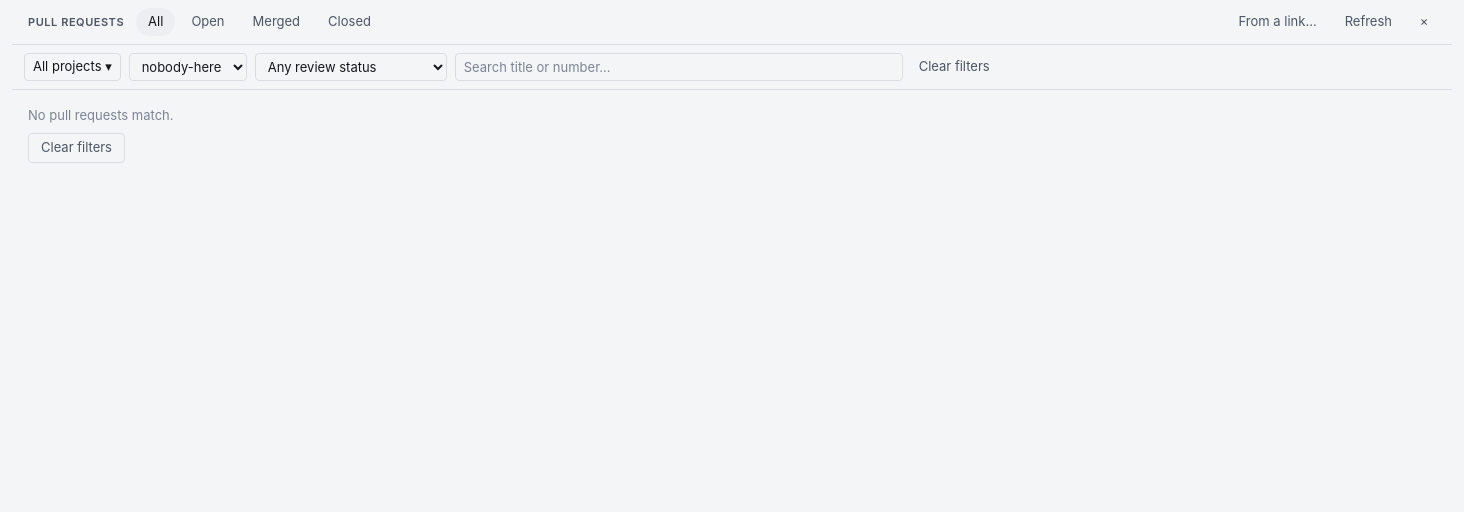
filters › clears what narrows the list and keeps the tab
This screenshot has width=1464, height=512.
Expected: the dropdown named "Author" shows "nobody-here", x1=129 y1=52 x2=247 y2=80
Expected: the message shows "No pull requests match.", x1=28 y1=106 x2=174 y2=122
Click the button "Clear filters" below "No pull requests match." at (76,148), box x1=28 y1=133 x2=125 y2=162
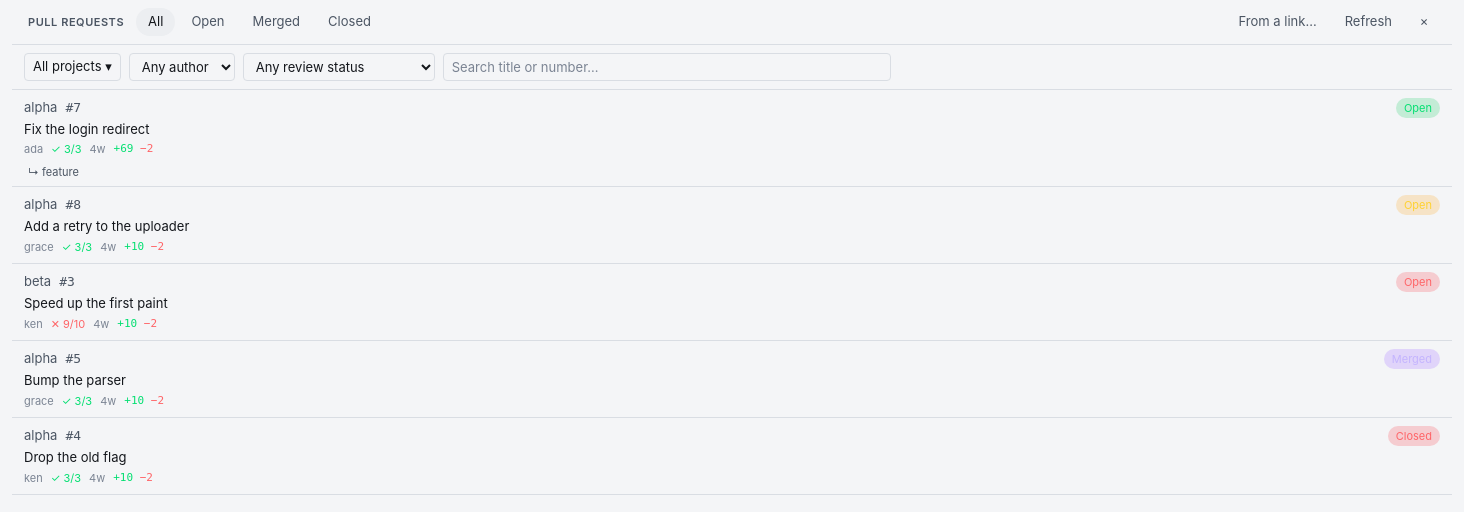
Now the button "Clear filters" is gone
